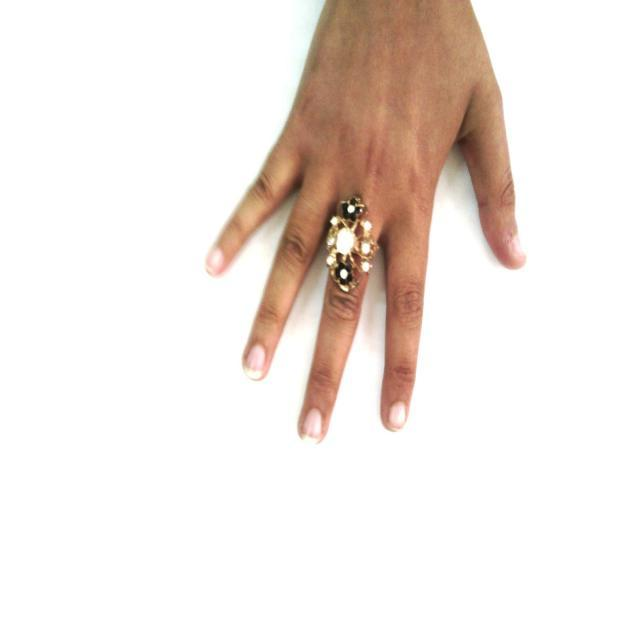Fingernail: (243, 343, 265, 380), (301, 408, 322, 446), (389, 402, 405, 429), (207, 248, 223, 273), (513, 236, 526, 257)
